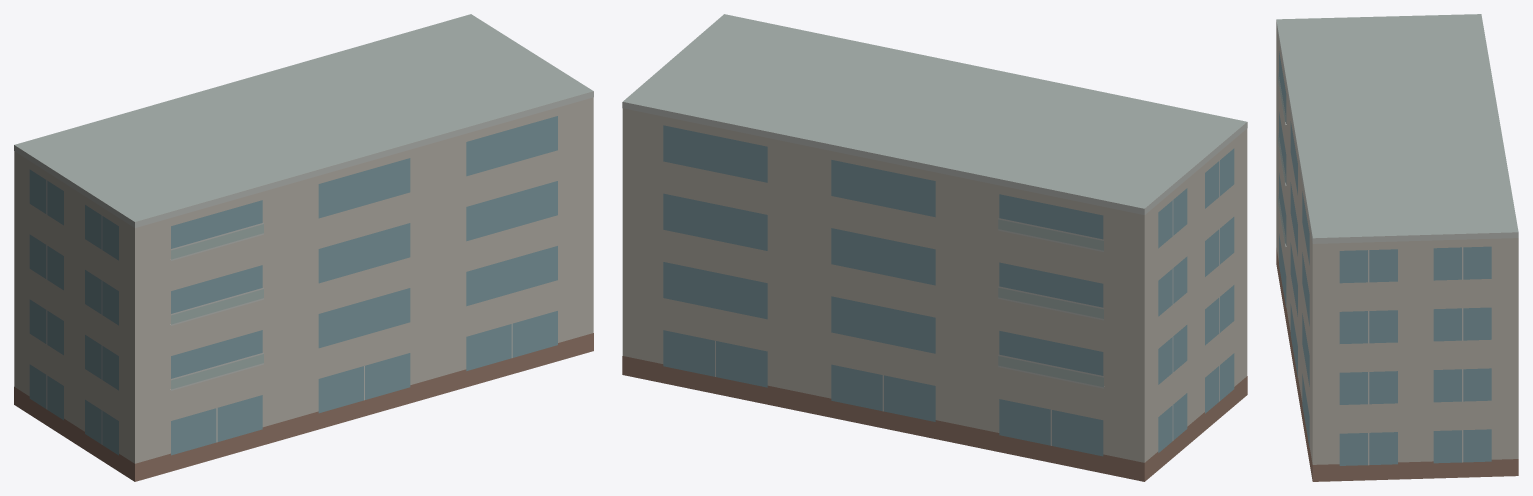
Rendered from survey-upis-32697175.glb.
The picture shows the model from 3 angles, left to right: view 1: azimuth 30°, elevation 25°; view 2: azimuth 150°, elevation 25°; view 3: azimuth 270°, elevation 25°; orthographic projection. The views are drawn at different scales.
Parts seen in each view (by area): view 1: survey-upis-32697175.tmp; view 2: survey-upis-32697175.tmp; view 3: survey-upis-32697175.tmp.
Part boxes in pixels (box(x1,y1,x2,y2)): survey-upis-32697175.tmp: box(14, 14, 593, 481); survey-upis-32697175.tmp: box(622, 14, 1247, 481); survey-upis-32697175.tmp: box(1276, 14, 1518, 481).
Bounding box in the file's own units: 20.53 × 10.4 × 9.38.
